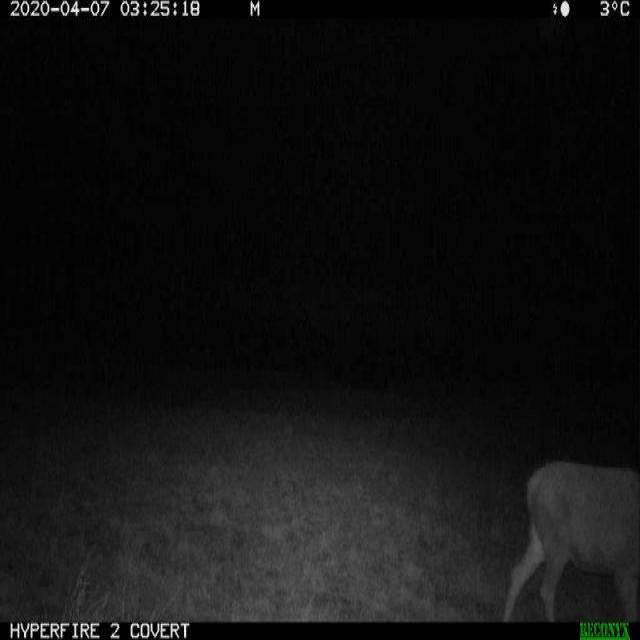deer: (484, 452, 638, 625)
